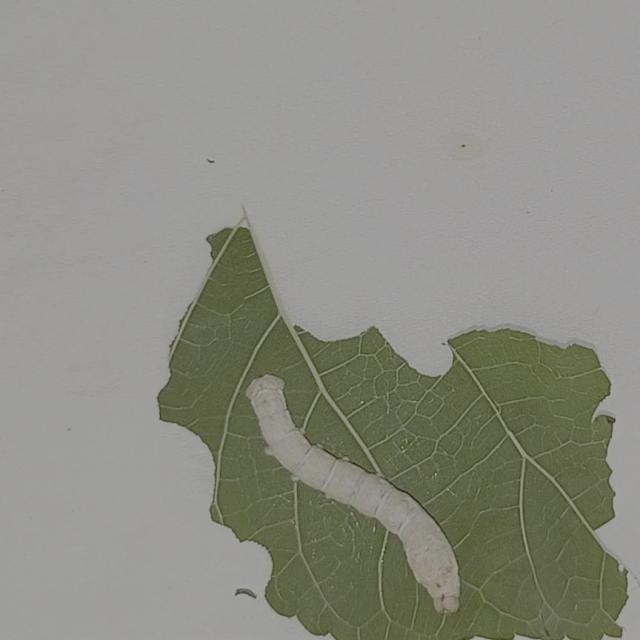Healthy: (219, 334, 495, 638)
